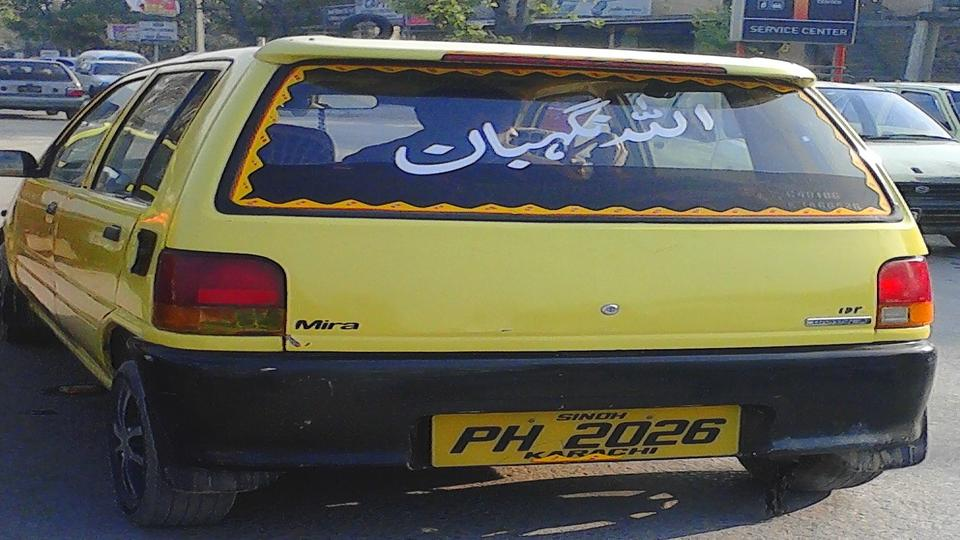NumberPlate: (435, 415, 759, 467)
